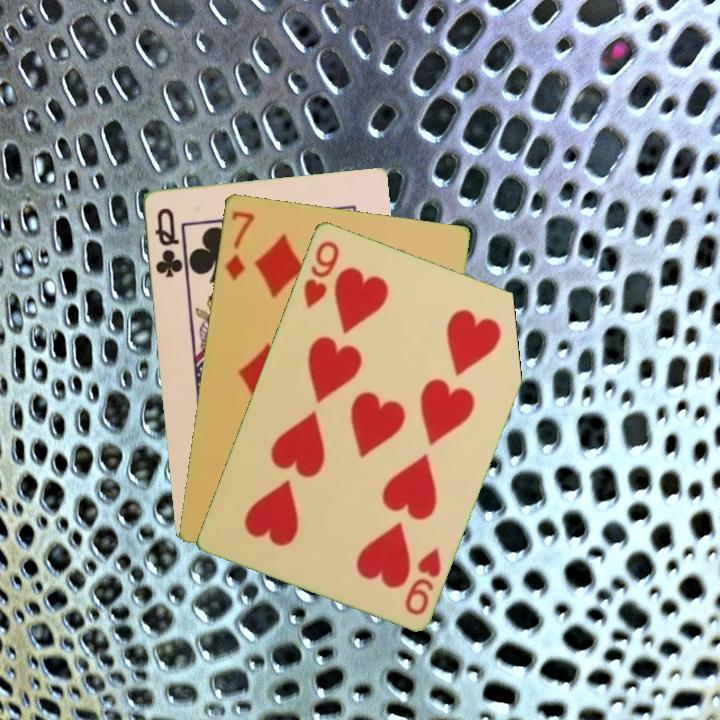7d: (221, 207, 257, 283)
9h: (299, 236, 342, 311), (401, 543, 444, 618)
Qc: (150, 204, 185, 280)
